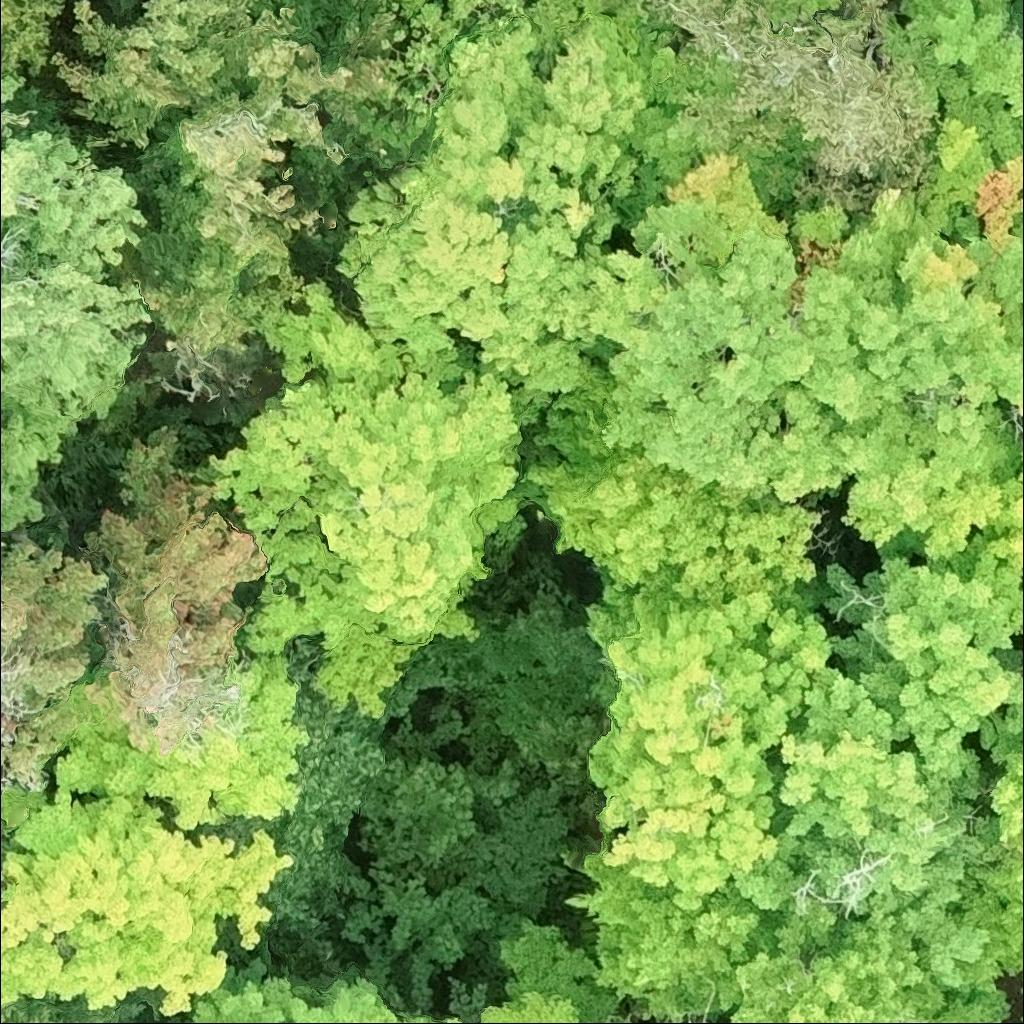crown: (192, 278, 557, 720), (333, 13, 702, 397), (50, 0, 430, 366), (766, 117, 1023, 566), (737, 666, 1015, 1023), (582, 583, 835, 911), (584, 150, 816, 490), (515, 360, 824, 613), (0, 63, 154, 539), (0, 785, 298, 1023), (628, 0, 942, 214), (77, 425, 268, 751), (796, 537, 1023, 803), (53, 655, 312, 831), (561, 857, 789, 1023), (0, 533, 111, 789), (726, 898, 926, 1023), (279, 635, 389, 854), (884, 0, 1023, 163), (186, 817, 371, 936), (443, 912, 637, 1023), (169, 955, 465, 1023), (952, 712, 1023, 991), (971, 443, 1023, 571), (577, 0, 676, 67), (0, 0, 70, 77), (0, 994, 149, 1023), (754, 0, 844, 29), (996, 704, 1023, 731), (1013, 397, 1023, 418), (1019, 1013, 1023, 1023), (1020, 570, 1023, 583), (1022, 667, 1023, 669)
